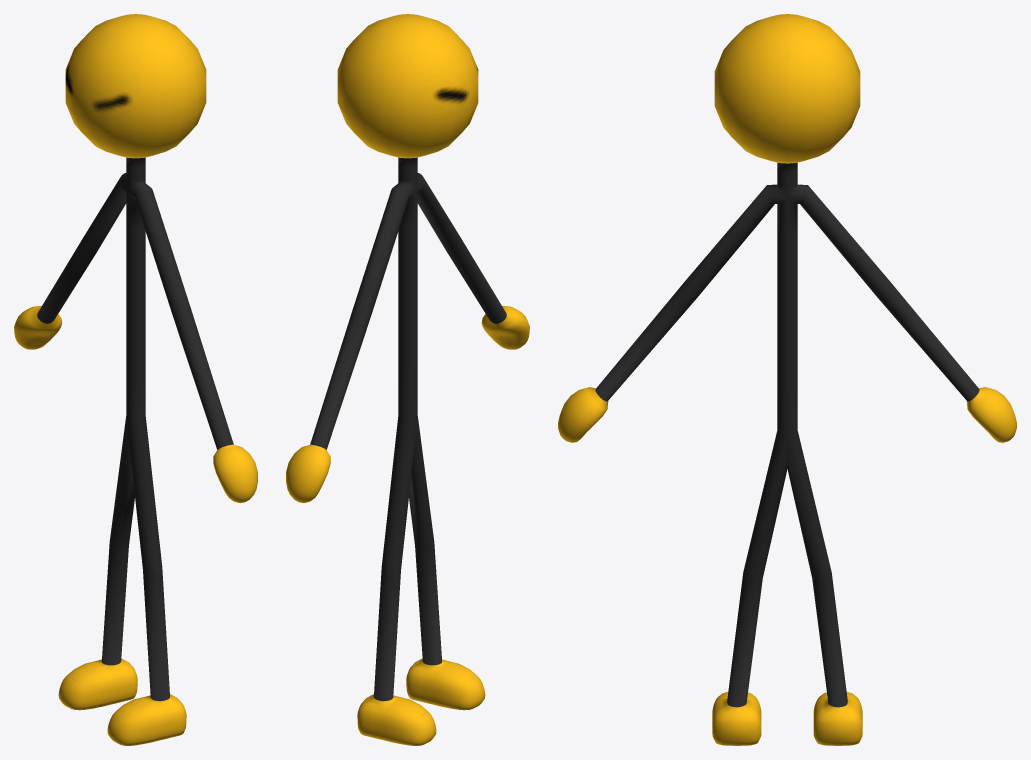
Rendered from Zolaman.FBX.
3 views of the same model, side by side, from view 1: azimuth 30°, elevation 25°; view 2: azimuth 150°, elevation 25°; view 3: azimuth 270°, elevation 25° (orthographic). The views are drawn at different scales.
Visible parts, largest first — view 1: Human; view 2: Human; view 3: Human.
Part boxes in pixels (left/top/right/bottom): Human: left=14, top=14, right=257, bottom=745; Human: left=286, top=14, right=529, bottom=745; Human: left=558, top=14, right=1016, bottom=745.
Size of the model in its own units: 43.33 by 232 by 134.
Materials: 1 (1 with a texture image).
